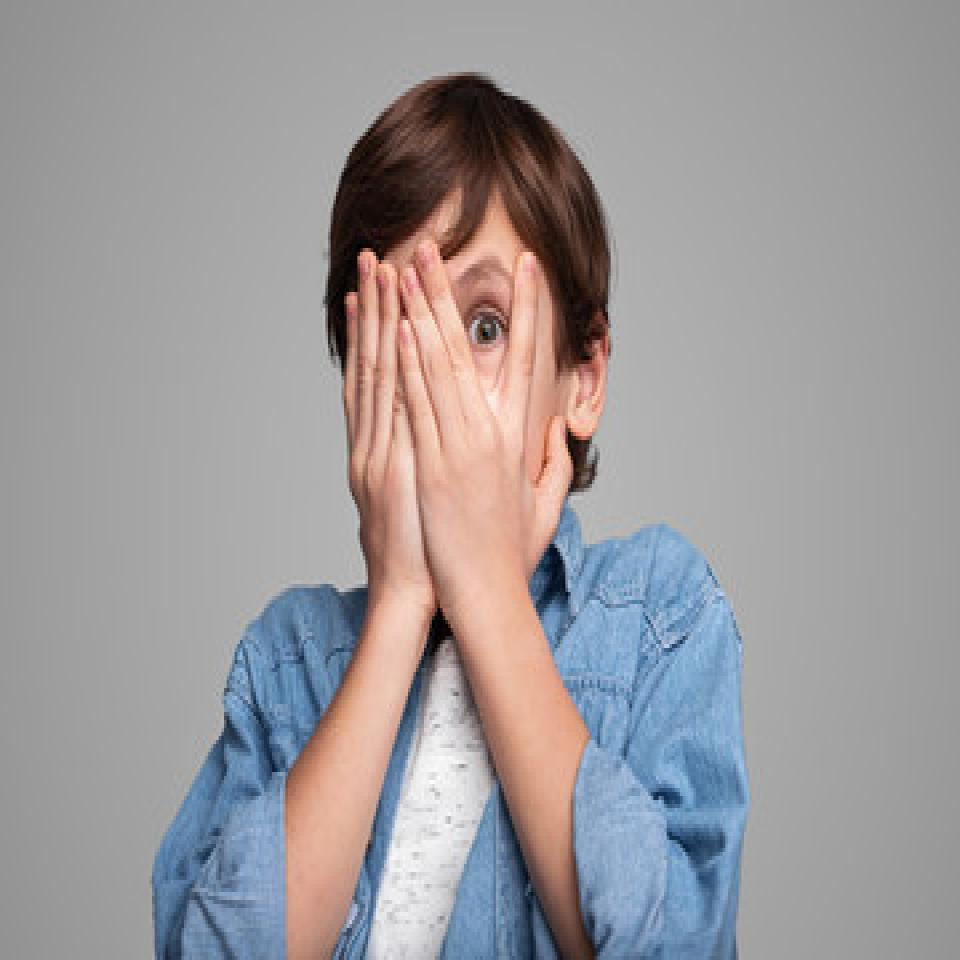Scared: (348, 268, 559, 513)
